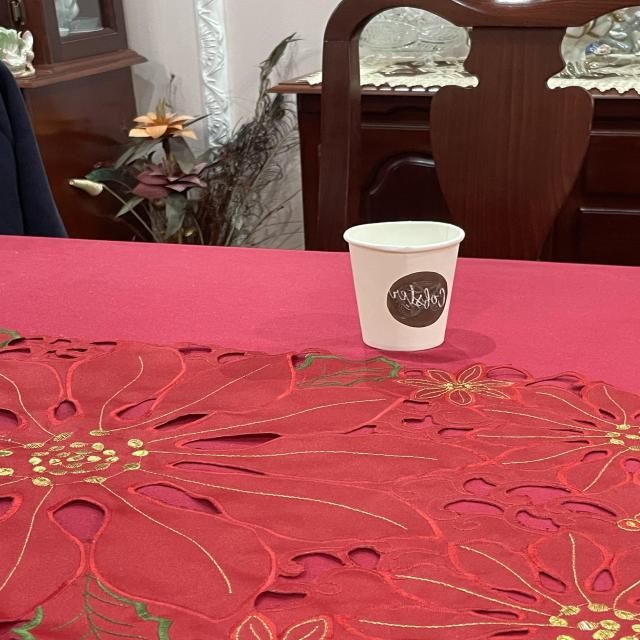medium: (338, 214, 474, 358)
